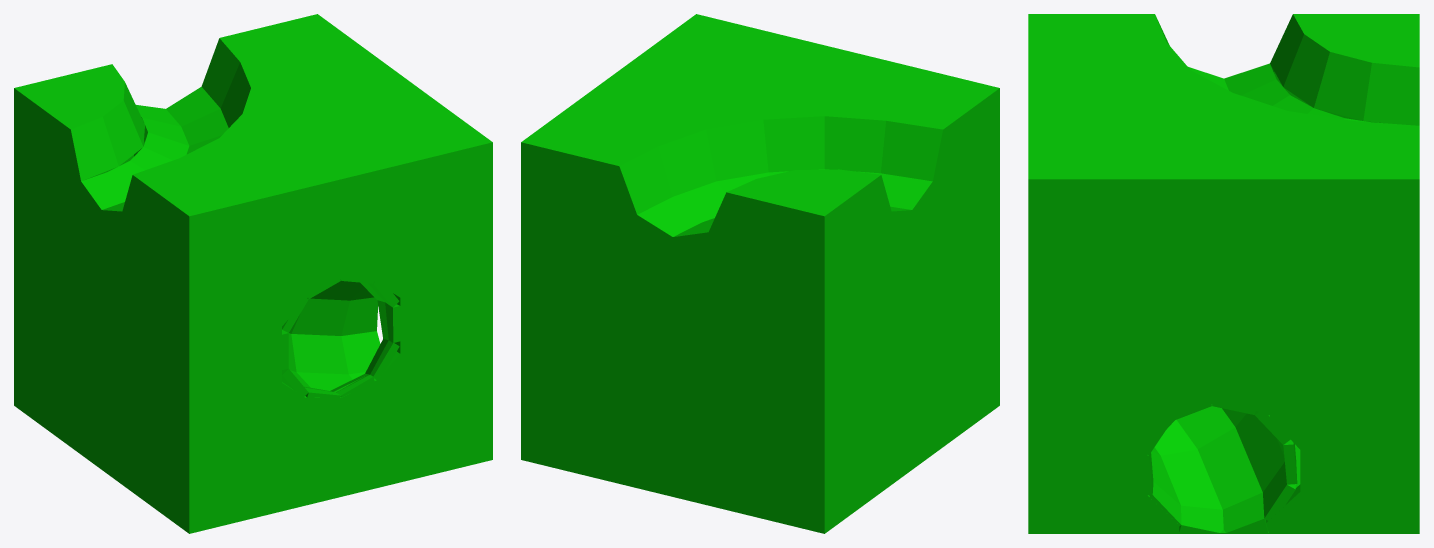
The model's file is UCXKugelbahn.17.fbx.
The picture shows the model from 3 angles, left to right: view 1: azimuth 30°, elevation 25°; view 2: azimuth 150°, elevation 25°; view 3: azimuth 270°, elevation 25°; orthographic projection. The views are drawn at different scales.
Visible parts, largest first — view 1: UCX_Kugelbahn.17_low; view 2: UCX_Kugelbahn.17_low; view 3: UCX_Kugelbahn.17_low.
Part boxes in pixels (x1,y1,x2,y2): UCX_Kugelbahn.17_low: (14,14,492,533); UCX_Kugelbahn.17_low: (521,14,999,533); UCX_Kugelbahn.17_low: (1028,14,1419,533).
Size of the model in its own units: 0.05 by 0.05 by 0.05.
